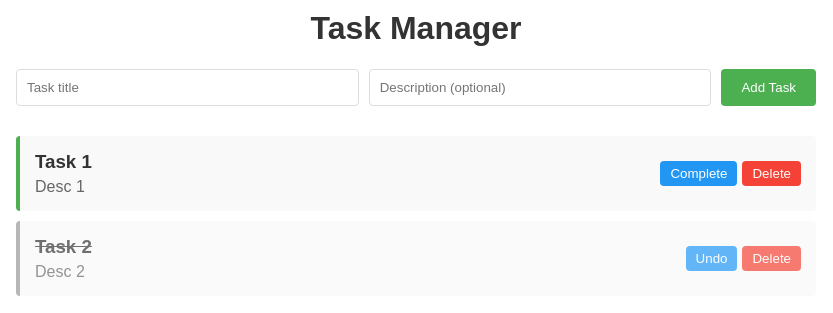
Scenario: App › deletes a task
Click the button "Delete" in the row of "Task 1".
click(772, 173)  # box [742, 161, 801, 186]
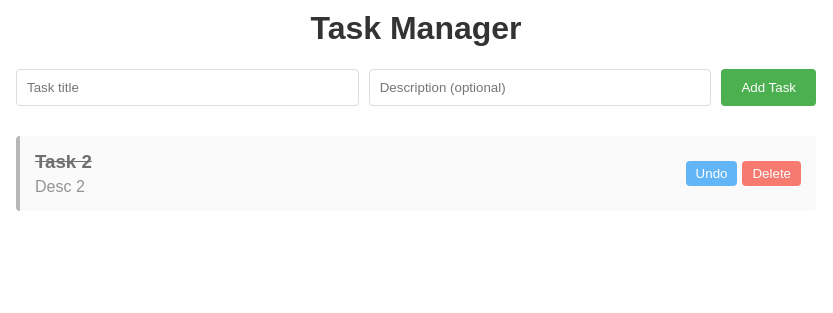
Expected: the heading "Task 2" is shown, [35, 151, 92, 172]
Expected: the heading "Task 1" is gone
